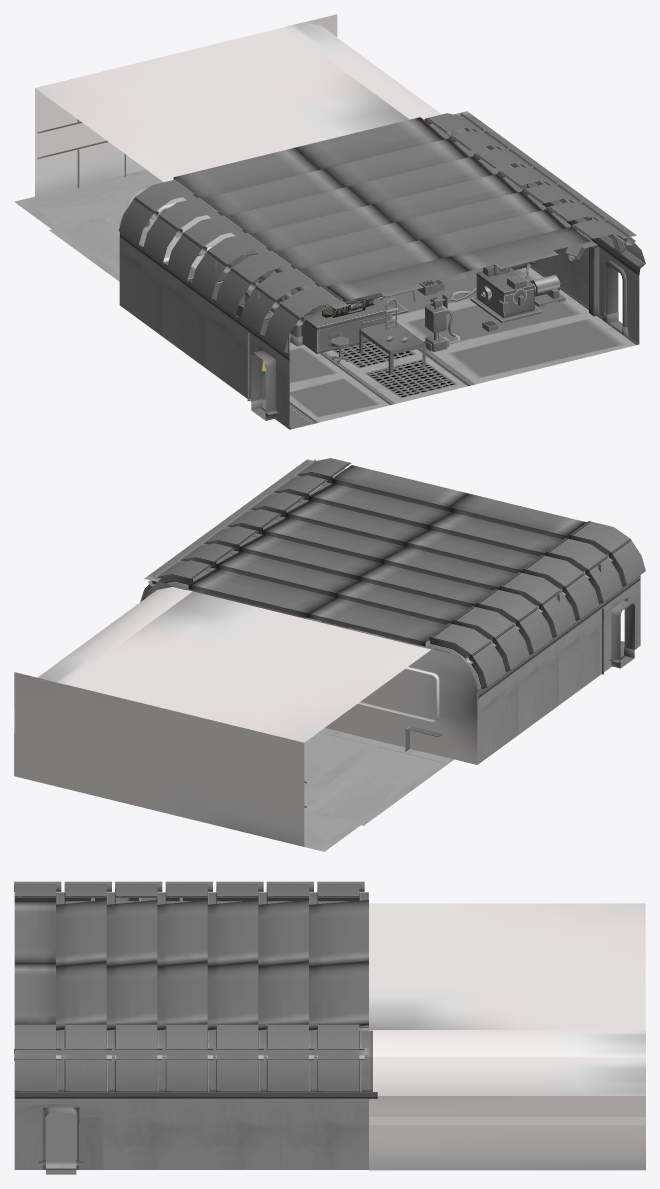
The model's file is MSH_Armory_room_L3_R2_optimized.fbx.
The picture shows the model from 3 angles, top to bottom: view 1: azimuth 30°, elevation 25°; view 2: azimuth 150°, elevation 25°; view 3: azimuth 270°, elevation 25°; orthographic projection. The views are drawn at different scales.
Parts seen in each view (by area): view 1: lightmap0, lightmap1, lightmap-1; view 2: lightmap0, lightmap-1; view 3: lightmap0.
Part boxes in pixels (<box>): lightmap0: <box>14,14,645,429</box>; lightmap1: <box>142,146,565,400</box>; lightmap-1: <box>251,265,622,420</box>; lightmap0: <box>14,458,645,851</box>; lightmap-1: <box>611,600,634,668</box>; lightmap0: <box>14,881,645,1170</box>.
Bounding box in the file's own units: 20.61 × 6.34 × 29.45.
